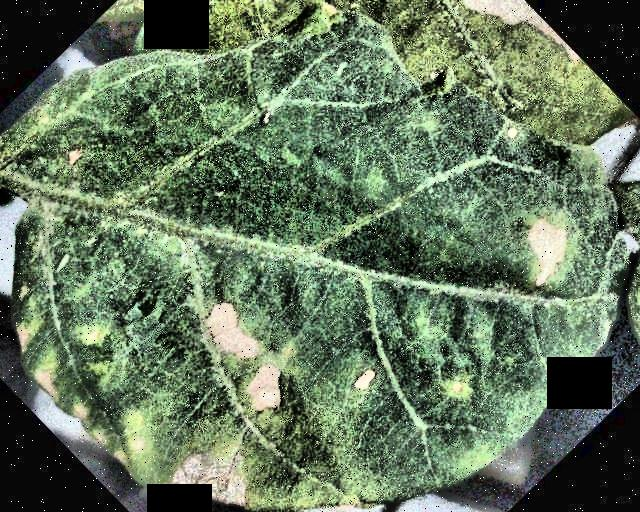Critical Stress: (0, 1, 640, 512)
